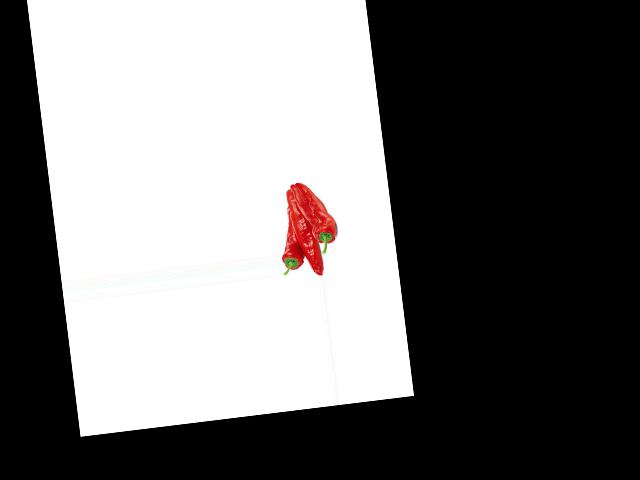bell_pepper: (298, 177, 342, 257)
